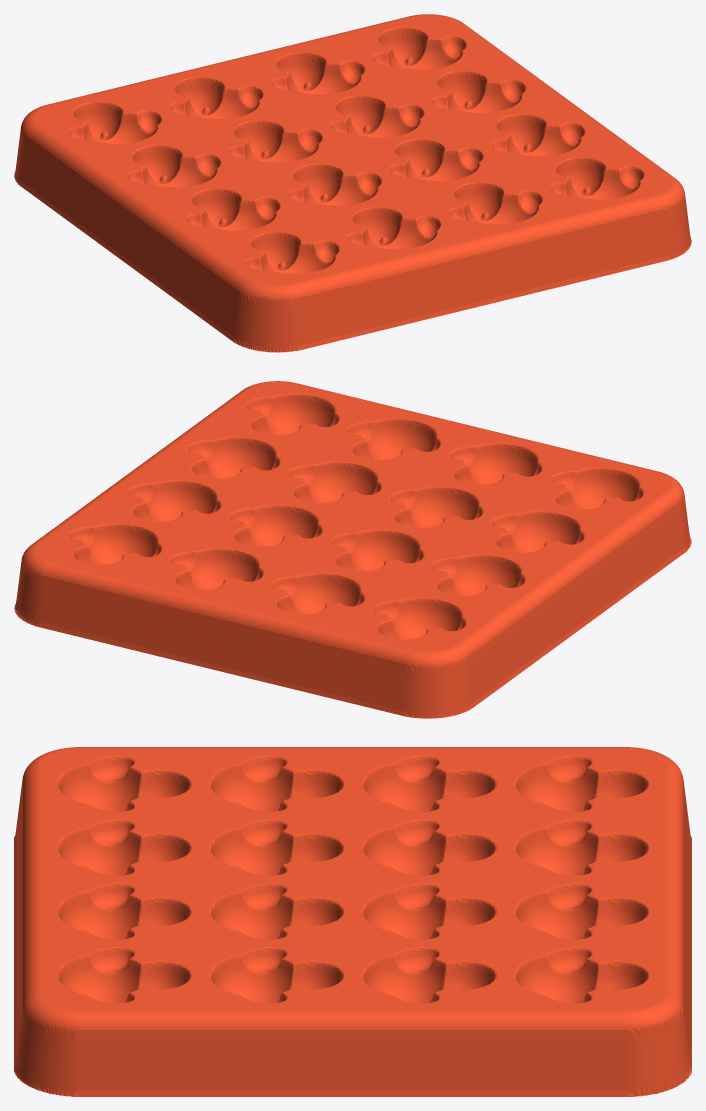
Rendered from mold.glb.
The picture shows the model from 3 angles, top to bottom: view 1: azimuth 30°, elevation 25°; view 2: azimuth 150°, elevation 25°; view 3: azimuth 270°, elevation 25°; orthographic projection. The views are drawn at different scales.
Visible parts, largest first — view 1: geometry_0; view 2: geometry_0; view 3: geometry_0.
Part boxes in pixels (bbox=[...]): geometry_0: bbox=[14, 14, 691, 352]; geometry_0: bbox=[14, 381, 691, 718]; geometry_0: bbox=[14, 747, 691, 1096].
Bounding box in the file's own units: 0.0908 × 0.0113 × 0.0916.
